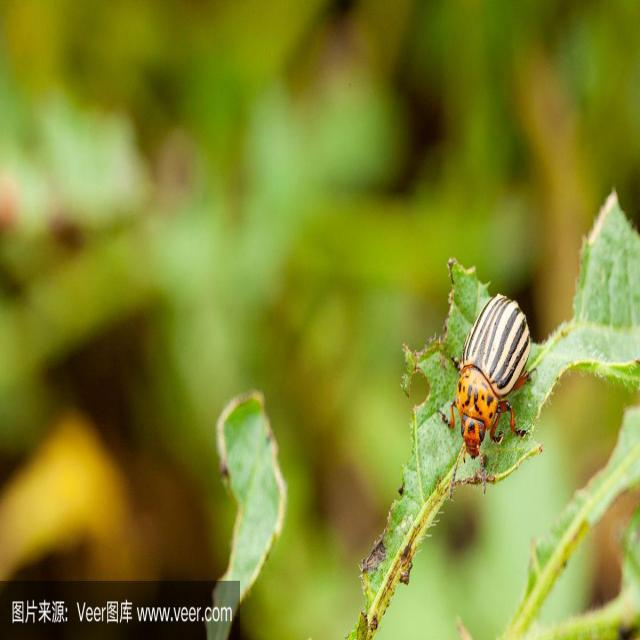ShuCaiHuaBanChong-Grown-: (445, 274, 533, 482)
